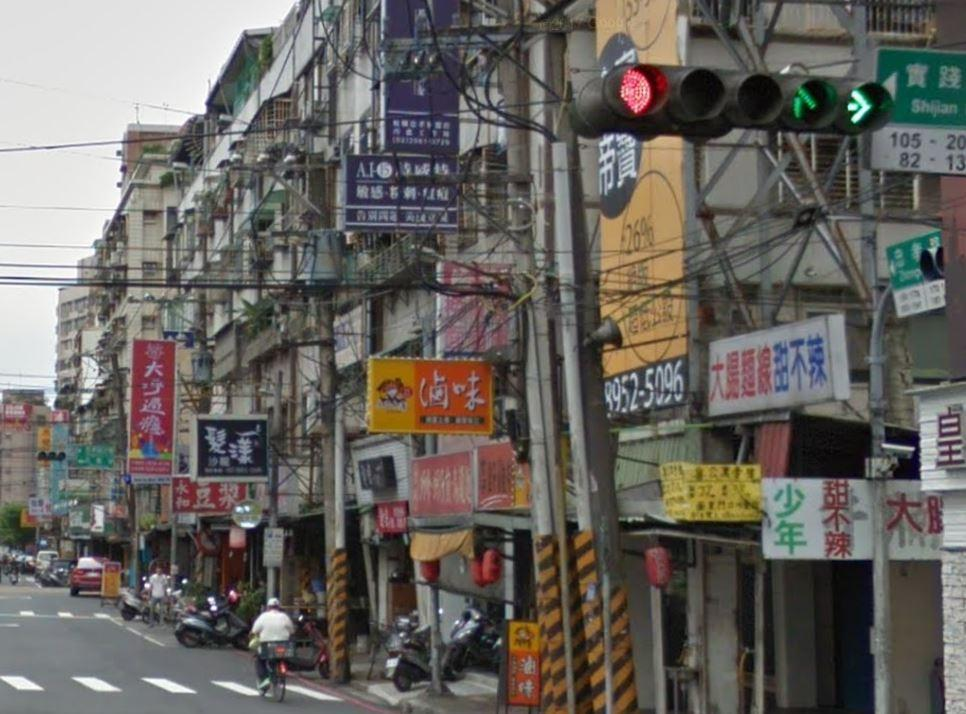red_traffic_light: (591, 62, 785, 129)
